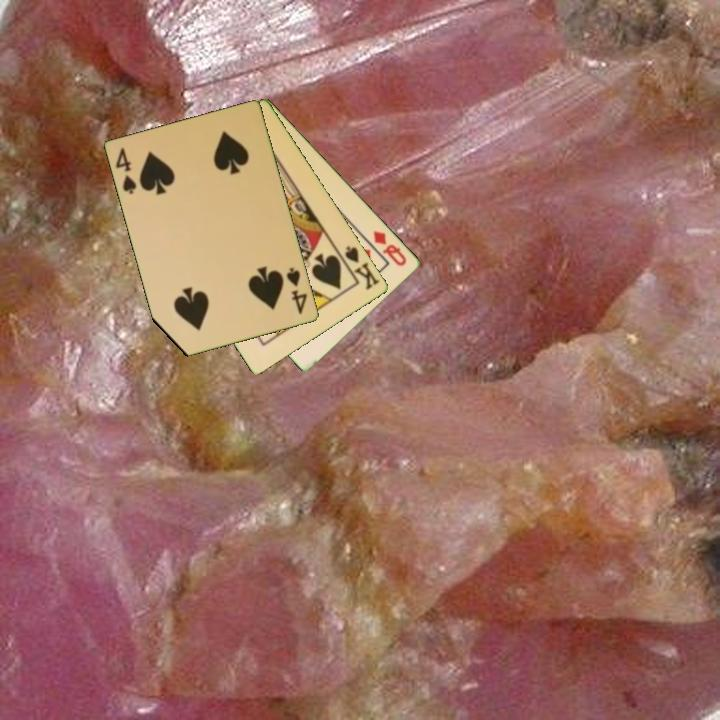4s: (112, 144, 140, 197), (283, 264, 310, 317)
Ks: (336, 242, 383, 293)
Qd: (370, 227, 410, 269)
